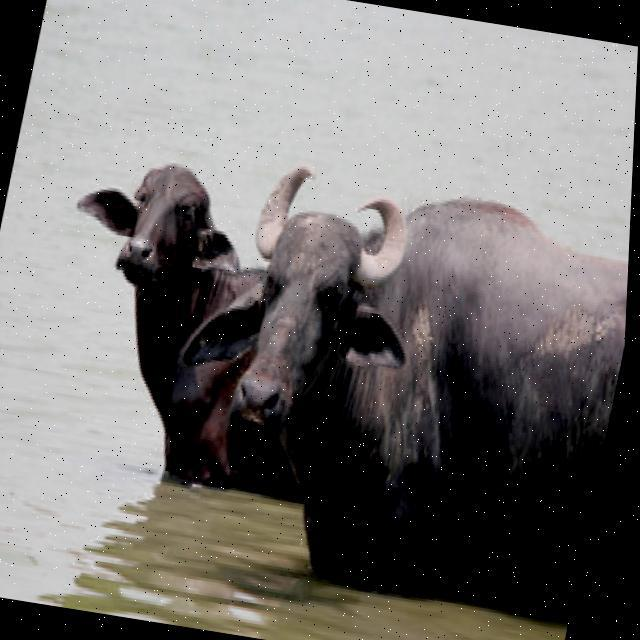Buffalo: (137, 154, 633, 619), (19, 143, 326, 495), (64, 152, 245, 302)
